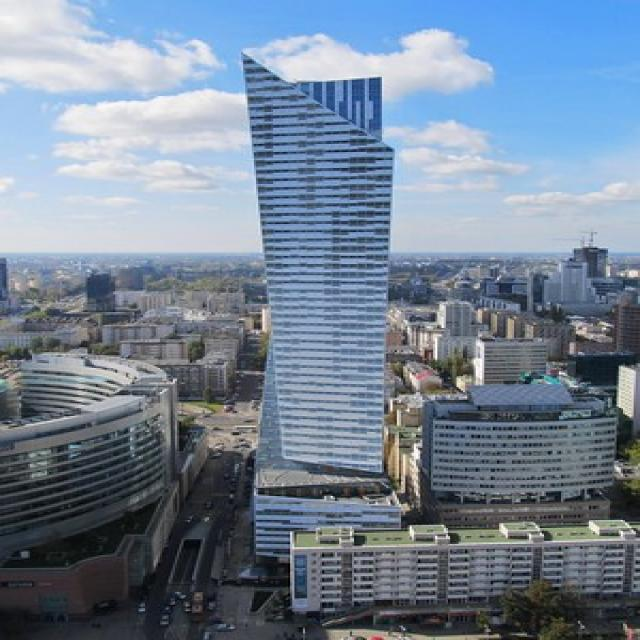Normal_building: (235, 42, 403, 534)
